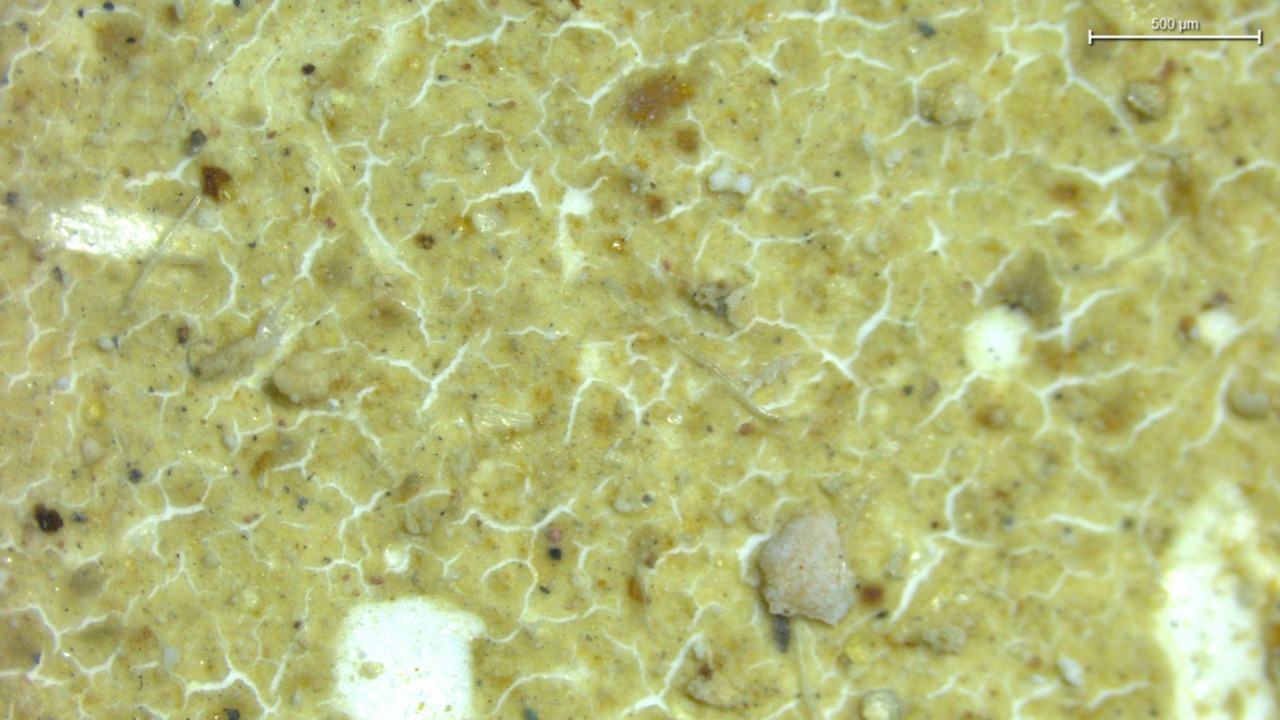microplastic_fragment: (757, 510, 855, 625), (272, 352, 335, 405), (709, 165, 753, 193)
